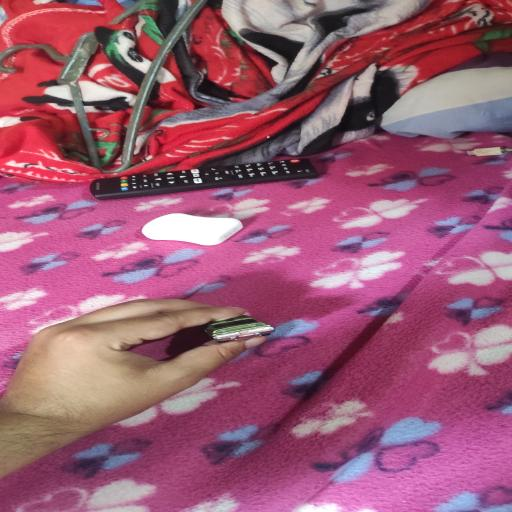Carrito: (204, 315, 274, 343)
